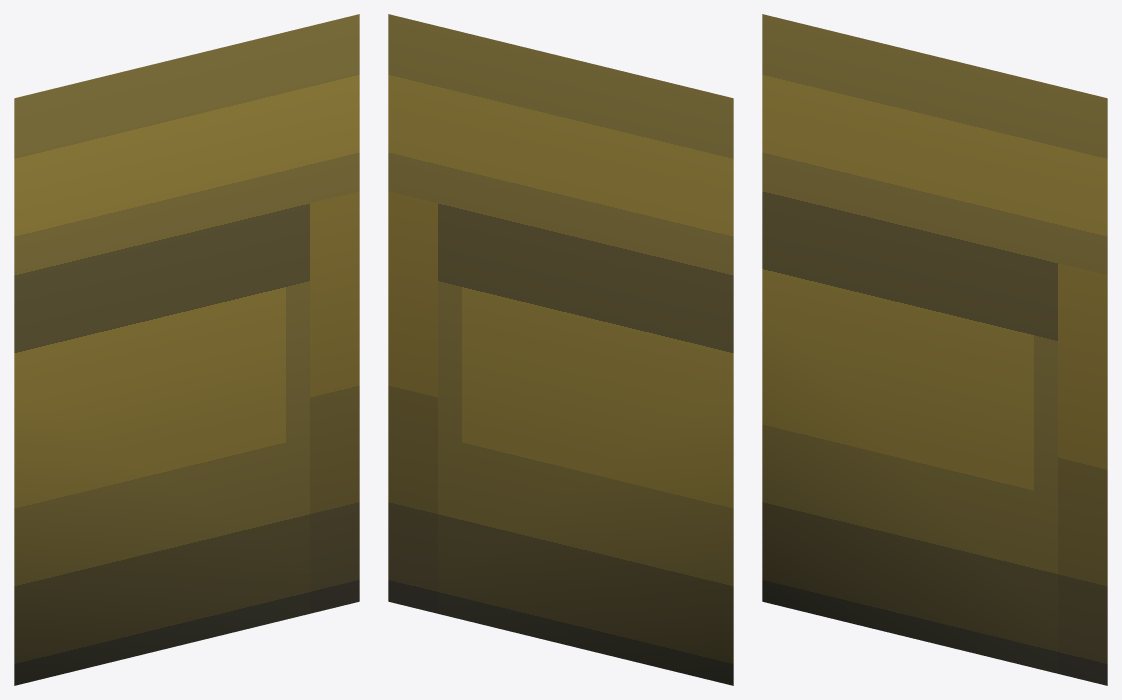
3 renders of one model, left to right at view 1: azimuth 30°, elevation 25°; view 2: azimuth 150°, elevation 25°; view 3: azimuth 330°, elevation 25°, orthographic.
Size of the model in its own units: 1 by 1.62 by 0.
Materials: 1 (1 with a texture image).
